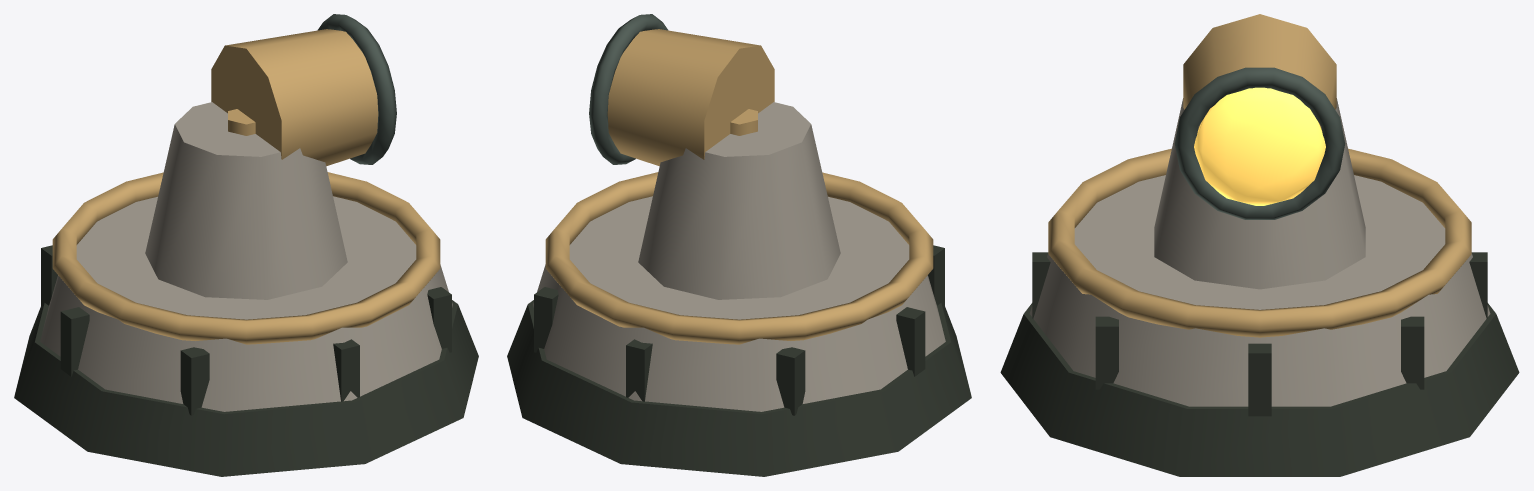
File: tower_laser_laserFocus.glb
3 renders of one model, left to right at view 1: azimuth 30°, elevation 25°; view 2: azimuth 150°, elevation 25°; view 3: azimuth 270°, elevation 25°, orthographic. The views are drawn at different scales.
Parts seen in each view (by area): view 1: stone_1, foot_0, column_11, lens_housing_13, rim_2, focus_ring_14, mortar_6, mortar_7, mortar_5, mortar_4, mortar_8, lens_arm_12; view 2: stone_1, foot_0, column_11, lens_housing_13, rim_2, focus_ring_14, mortar_8, mortar_7, mortar_9, mortar_10, mortar_6, lens_arm_12; view 3: stone_1, foot_0, rim_2, column_11, lens_glass_15, focus_ring_14, lens_housing_13, mortar_3, mortar_4, mortar_10, mortar_5, mortar_9.
Boxes of the visible parts, x1,y1,x2,y2 form: stone_1: (40,196,452,411); foot_0: (14,300,478,476); column_11: (145,102,347,299); lens_housing_13: (211,29,378,166); rim_2: (52,172,440,344); focus_ring_14: (317,14,396,164); mortar_6: (180,347,209,415); mortar_7: (60,307,89,376); mortar_5: (333,339,359,401); mortar_4: (427,287,451,352); mortar_8: (41,245,57,306); lens_arm_12: (228,109,255,135); stone_1: (533,196,945,411); foot_0: (507,300,971,476); column_11: (638,102,840,299); lens_housing_13: (607,29,774,166); rim_2: (545,172,933,344); focus_ring_14: (589,14,668,164); mortar_8: (776,347,805,415); mortar_7: (896,307,925,376); mortar_9: (626,339,652,401); mortar_10: (534,287,558,352); mortar_6: (928,245,944,306); lens_arm_12: (730,109,757,135); stone_1: (1029,175,1490,406); foot_0: (1000,303,1519,476); rim_2: (1048,148,1471,337); column_11: (1154,98,1365,289); lens_glass_15: (1194,87,1325,205); focus_ring_14: (1174,67,1345,219); lens_housing_13: (1183,14,1336,129); mortar_3: (1248,343,1271,416); mortar_4: (1095,316,1118,389); mortar_10: (1401,316,1424,389); mortar_5: (1032,252,1050,318); mortar_9: (1469,252,1487,318).
Bounding box in the file's own units: 0.5326 × 0.4306 × 0.56.
